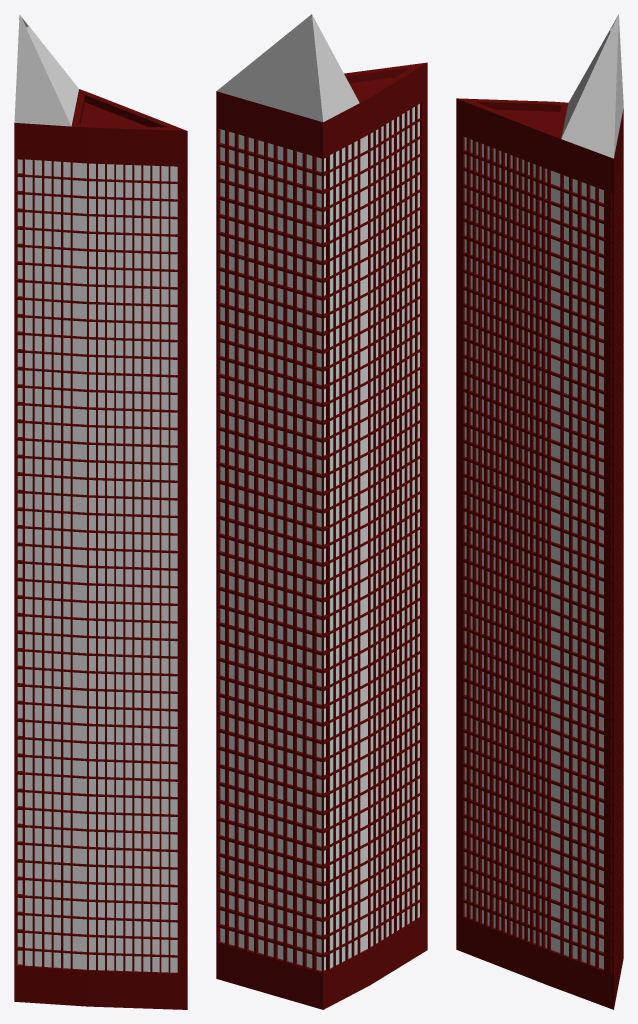
Rendered from TheTriangle.fbx.
3 views of the same model, side by side, from view 1: azimuth 90°, elevation 25°; view 2: azimuth 150°, elevation 25°; view 3: azimuth 270°, elevation 25° (orthographic). The views are drawn at different scales.
Parts seen in each view (by area): view 1: TheTriangle; view 2: TheTriangle; view 3: TheTriangle.
Part boxes in pixels (box(x1,y1,x2,y2)): TheTriangle: box(14, 14, 187, 1009); TheTriangle: box(216, 14, 427, 1009); TheTriangle: box(456, 14, 623, 1009).
Size of the model in its own units: 2979 by 21867 by 3497.
